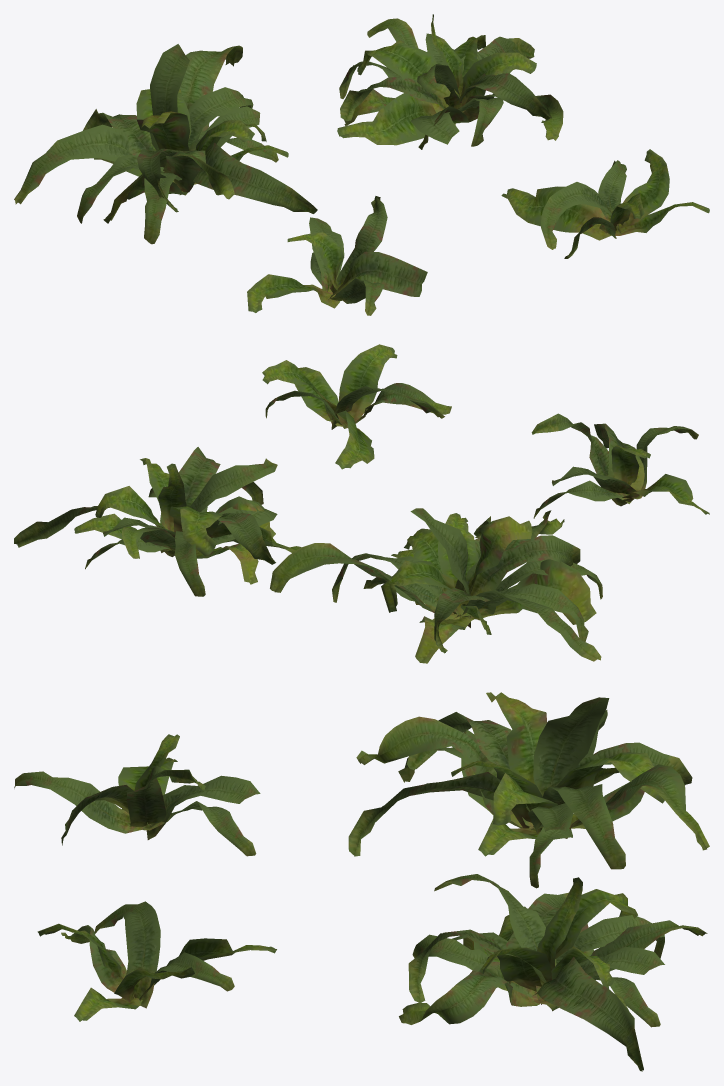
Rendered from fern_02.glb.
The picture shows the model from 3 angles, top to bottom: view 1: azimuth 30°, elevation 25°; view 2: azimuth 150°, elevation 25°; view 3: azimuth 270°, elevation 25°; orthographic projection. The views are drawn at different scales.
Visible parts, largest first — view 1: fern_02_b, fern_02_c, fern_02_d, fern_02_a; view 2: fern_02_b, fern_02_c, fern_02_d, fern_02_a; view 3: fern_02_b, fern_02_c, fern_02_a, fern_02_d.
Part boxes in pixels (left/top/right/bottom): fern_02_b: left=14, top=44, right=317, bottom=244; fern_02_c: left=337, top=14, right=563, bottom=149; fern_02_d: left=501, top=149, right=709, bottom=258; fern_02_a: left=247, top=196, right=427, bottom=315; fern_02_b: left=270, top=508, right=602, bottom=663; fern_02_c: left=14, top=447, right=301, bottom=596; fern_02_d: left=262, top=344, right=451, bottom=469; fern_02_a: left=531, top=413, right=709, bottom=518; fern_02_b: left=348, top=692, right=709, bottom=888; fern_02_c: left=399, top=874, right=707, bottom=1071; fern_02_a: left=14, top=734, right=260, bottom=856; fern_02_d: left=37, top=901, right=276, bottom=1021.
Bounding box in the file's own units: 1.97 × 0.4277 × 1.72.
1 material, 1 textured.
